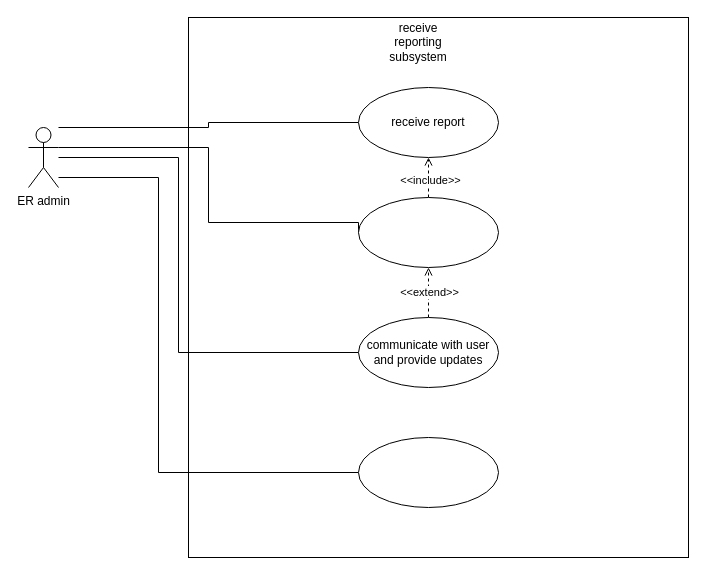
Image size: 706x575. Some labels were removed from this diagram. The box of each missing label's shape, as (x1, y1, x2, y2) in pixels:
allocate response team: (358, 196, 498, 268)
communicate with response team: (358, 436, 498, 508)
